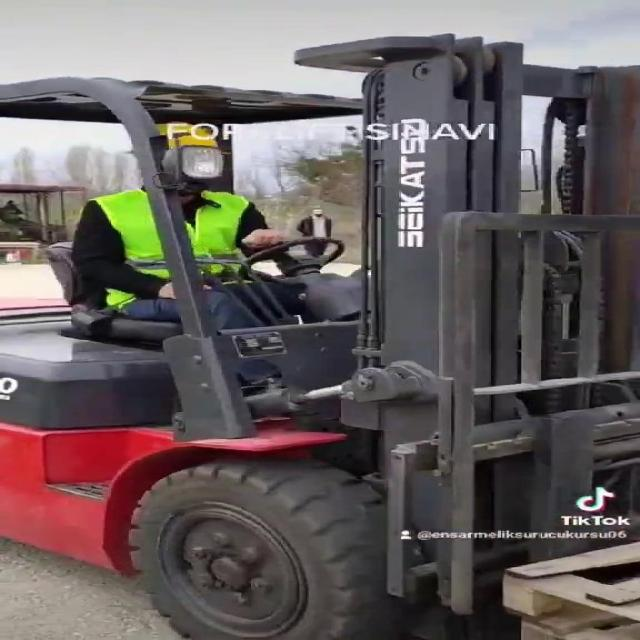forklift: (0, 37, 640, 640)
person: (47, 120, 330, 370)
